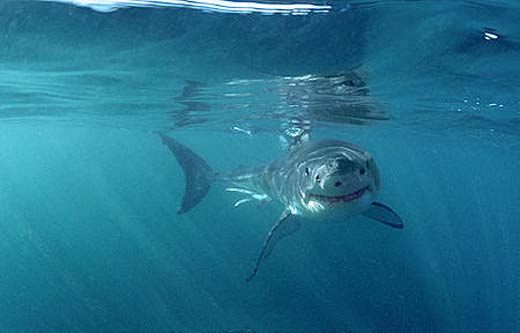Carcharodon_carcharias: (141, 116, 429, 276)
